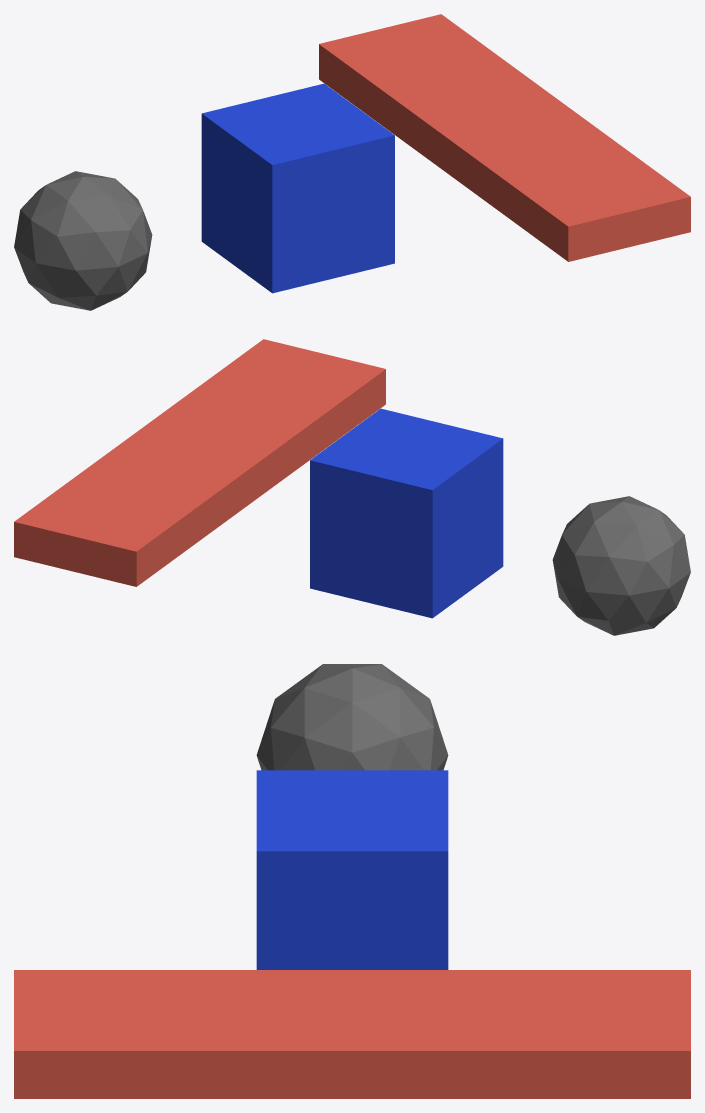
File: multibakepractice_v3.fbx
3 renders of one model, top to bottom at view 1: azimuth 30°, elevation 25°; view 2: azimuth 150°, elevation 25°; view 3: azimuth 270°, elevation 25°, orthographic. The views are drawn at different scales.
Parts seen in each view (by area): view 1: Cube.001, Cube, Icosphere; view 2: Cube.001, Cube, Icosphere; view 3: Cube.001, Cube, Icosphere.
Part boxes in pixels (x1,y1,x2,y2): Cube.001: (319,14,690,261); Cube: (201,83,394,293); Icosphere: (14,171,152,310); Cube.001: (14,339,385,586); Cube: (310,408,503,618); Icosphere: (552,496,690,635); Cube.001: (14,970,690,1098); Cube: (256,770,448,969); Icosphere: (256,664,448,770).
Size of the model in its own units: 884 by 200 by 706.
Materials: 1 (1 with a texture image).
